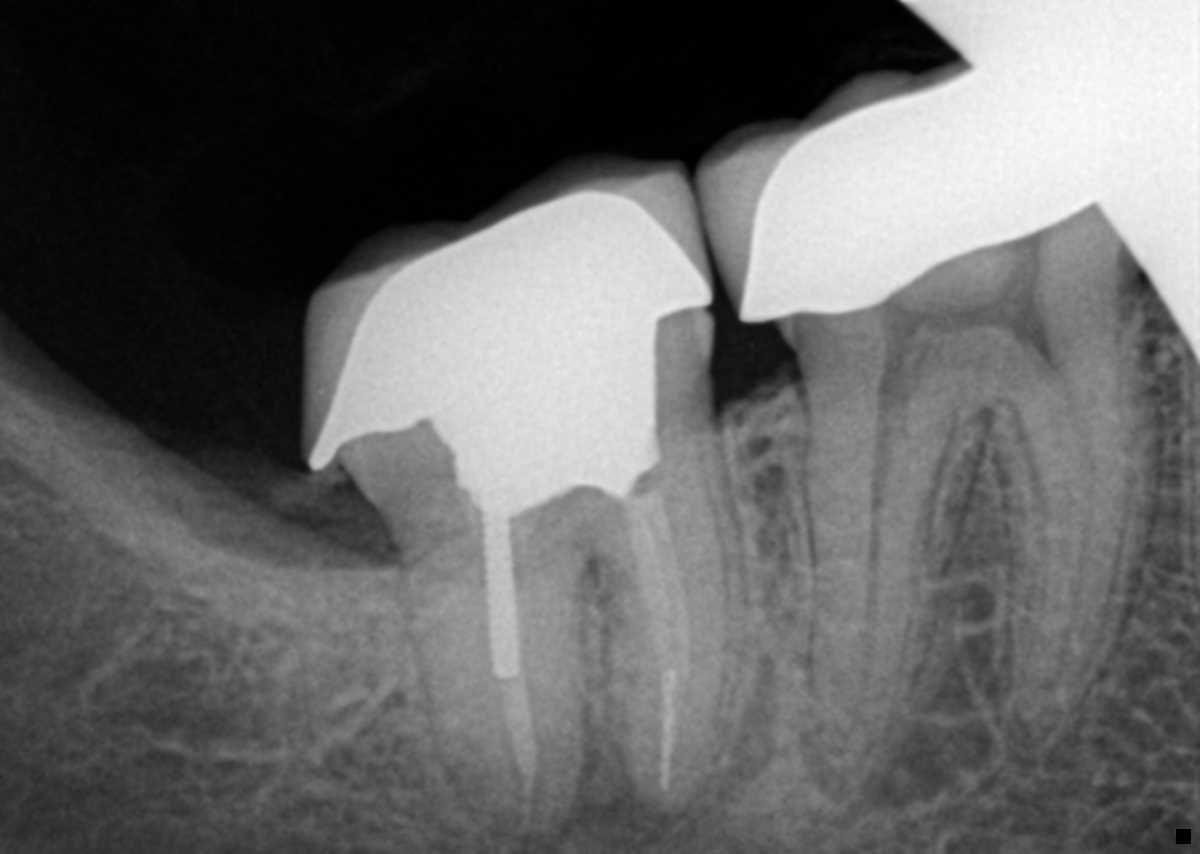Apical Lesion: (589, 756, 738, 852)
Distal Canal: (850, 381, 913, 739)
Distal Root: (805, 399, 993, 757), (406, 537, 592, 847)
Mesial Canal: (1050, 360, 1096, 688)
Mesial Root: (985, 342, 1160, 726), (594, 458, 742, 807)
Root Canal Filling: (630, 492, 694, 684), (492, 676, 542, 838)
